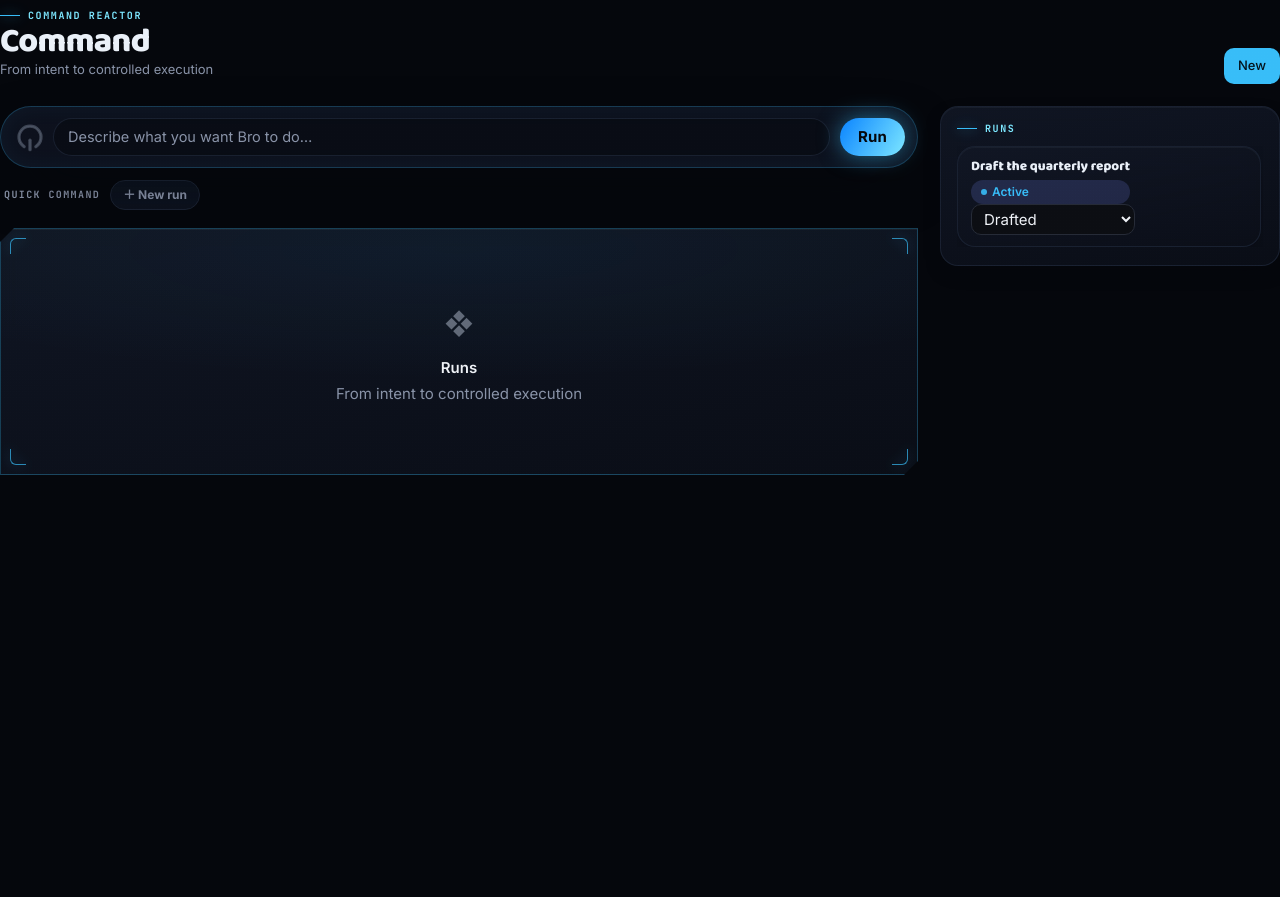
Test: Command — what the backend sends down the channel › a failure delivered as an error FRAME is shown as a failure
The width and height of the screenshot is (1280, 897).
Click the button "Draft the quarterly report Active" at (1051, 181), box [971,158,1130,204]
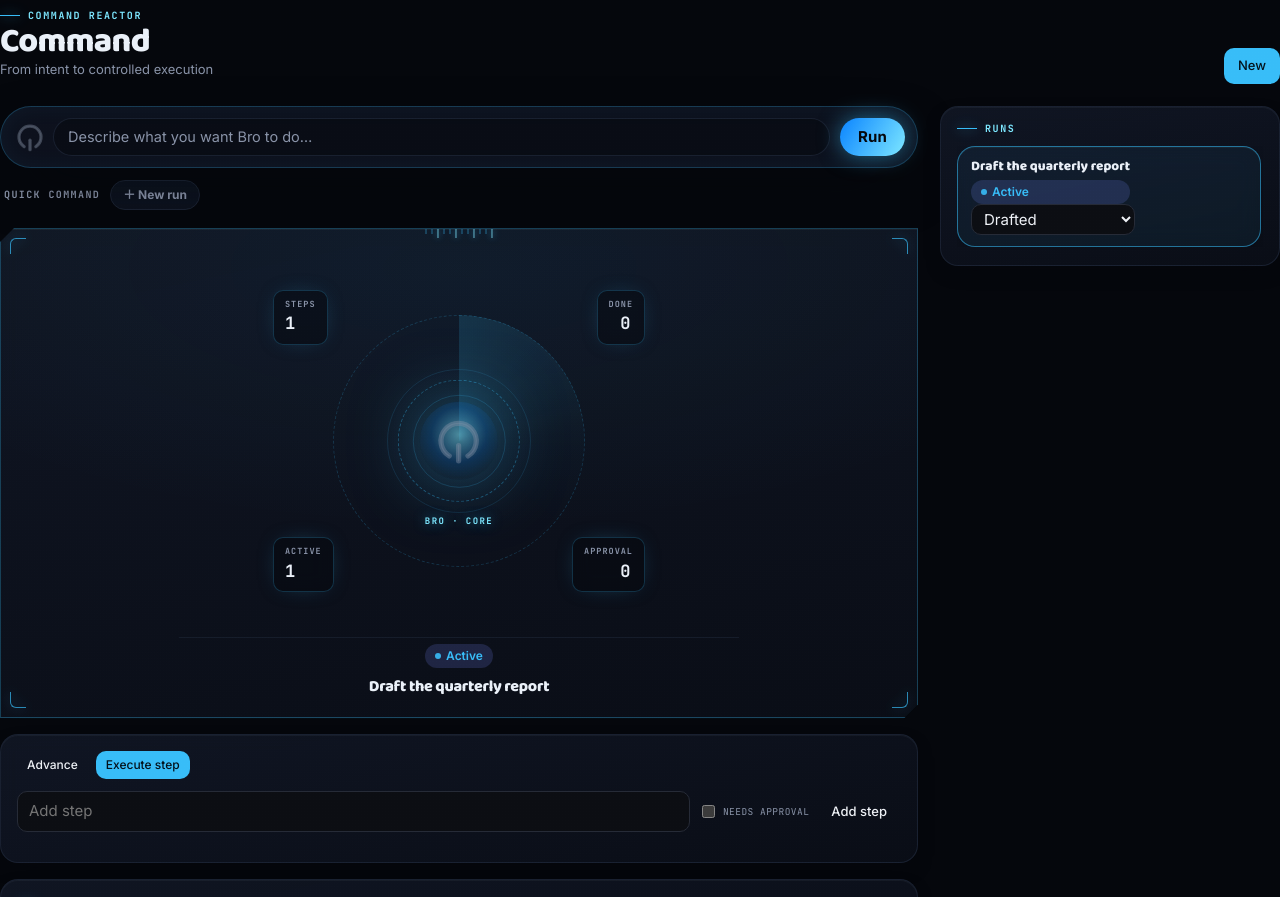
Click the button "Execute step" at (143, 766), box [96,752,190,780]
(page scrolled)
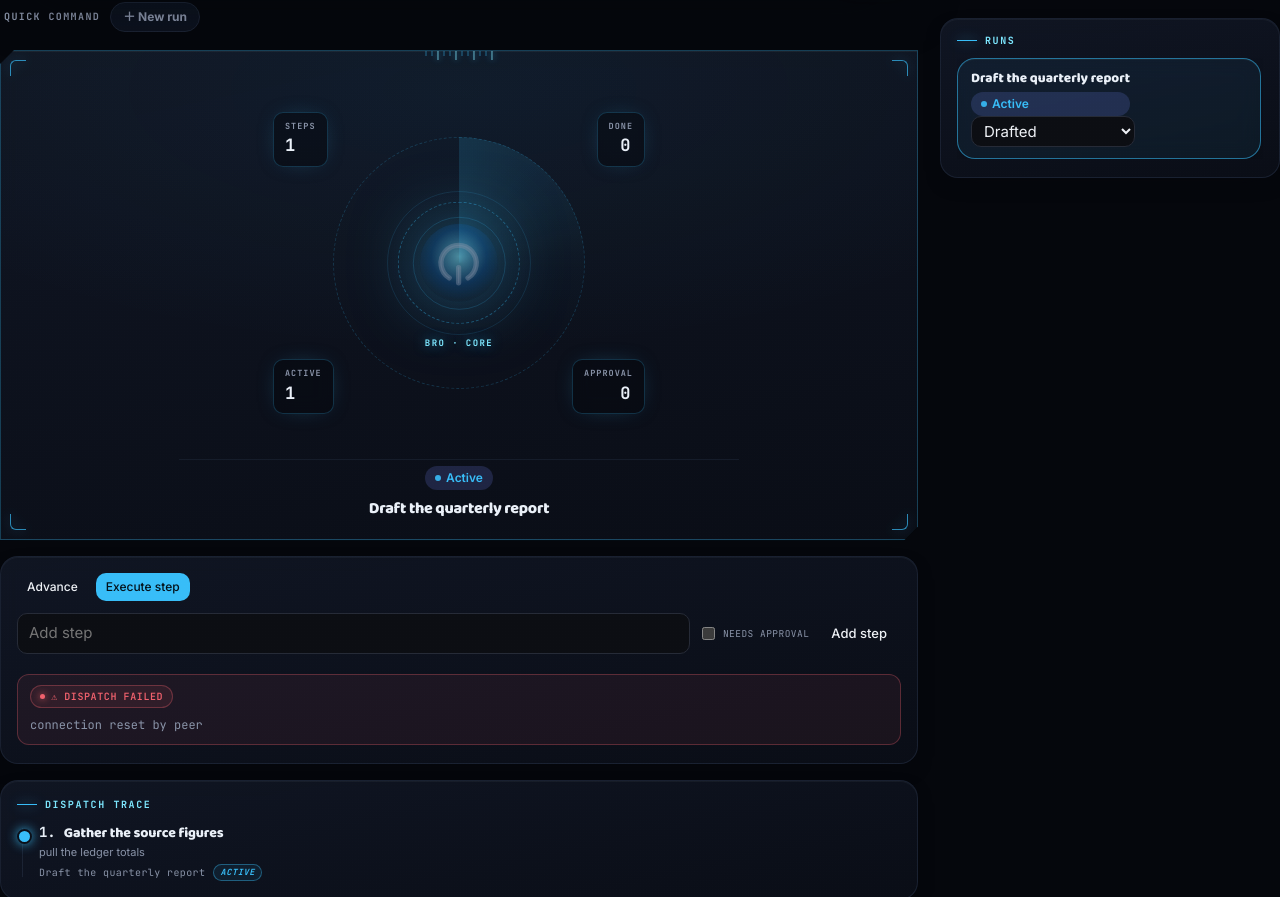
Expected: the message shows "connection reset by peer", [30,717,203,733]
